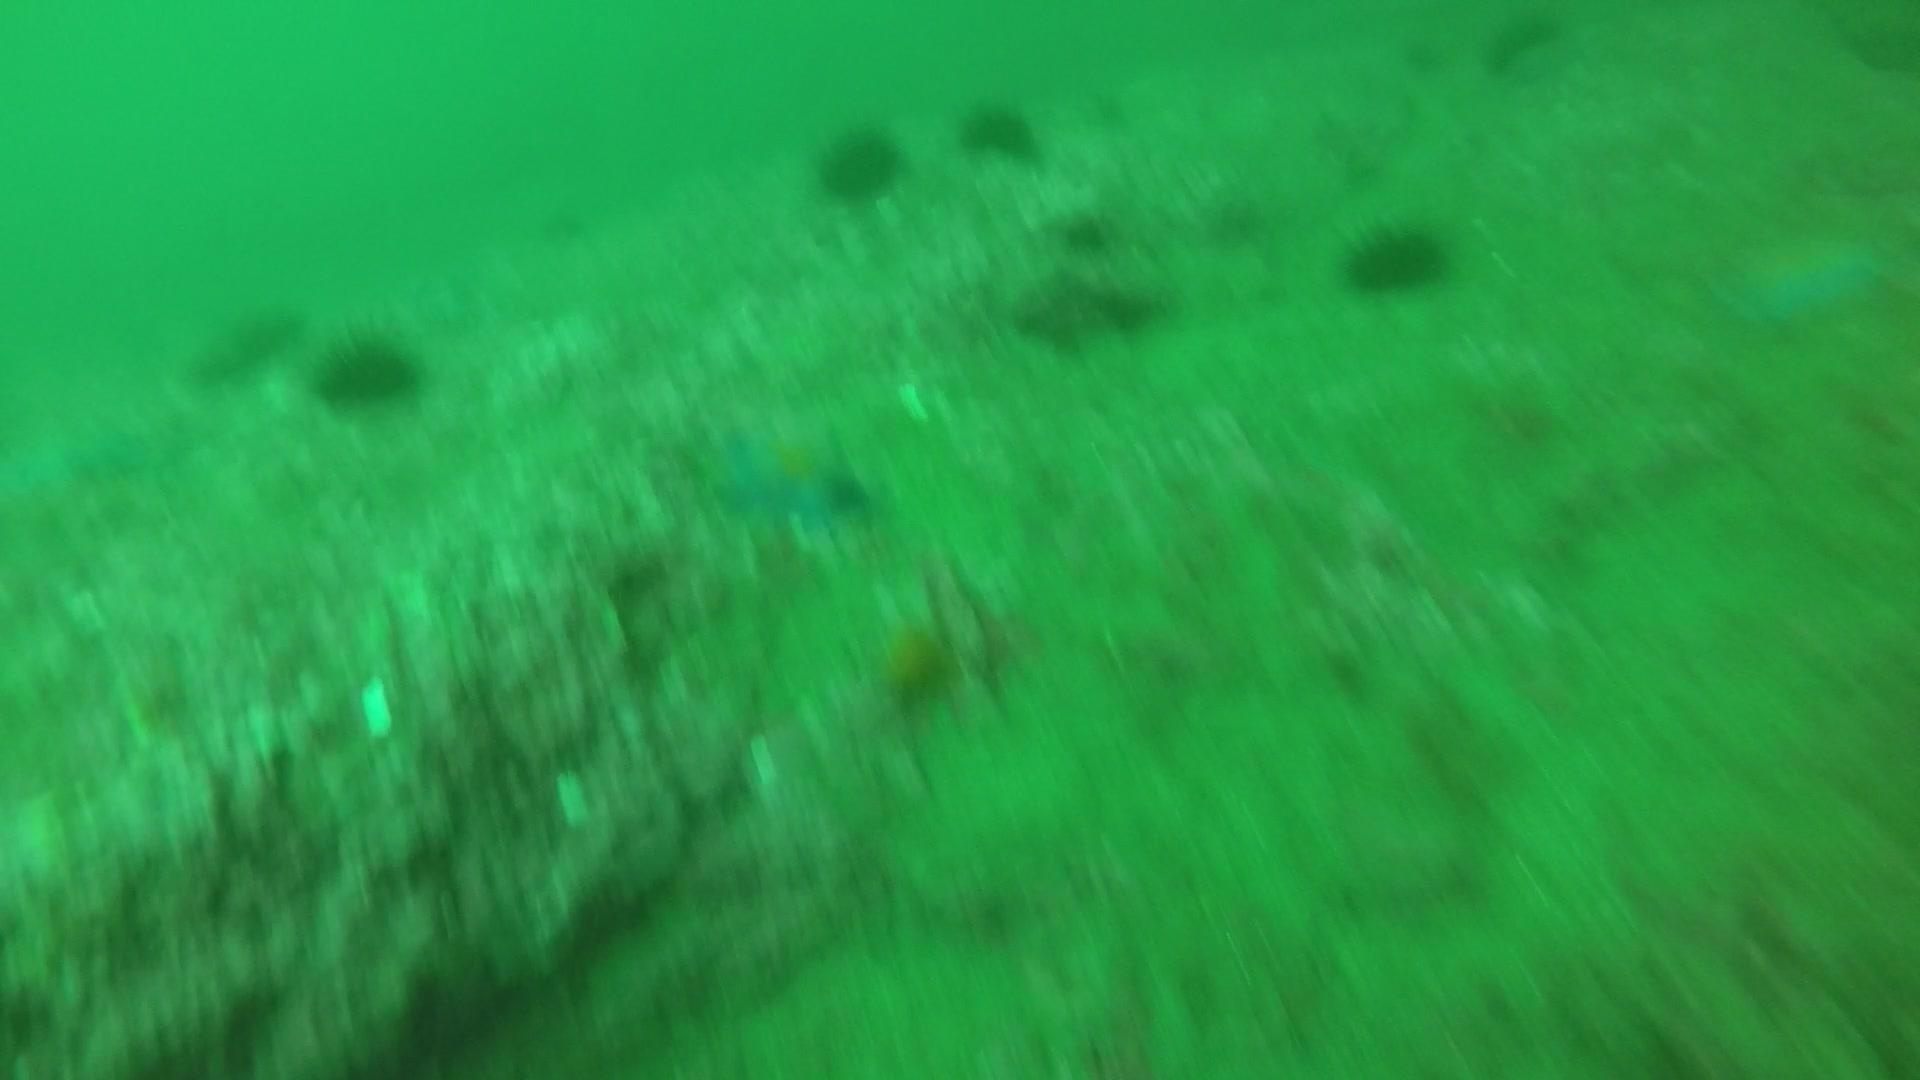echinus: (1013, 262, 1160, 353), (310, 324, 427, 414), (1338, 214, 1455, 301), (810, 117, 909, 207), (955, 92, 1044, 166), (185, 336, 261, 398), (229, 297, 305, 359)
starfish: (851, 572, 1010, 727), (703, 407, 877, 546), (1712, 225, 1891, 334)
